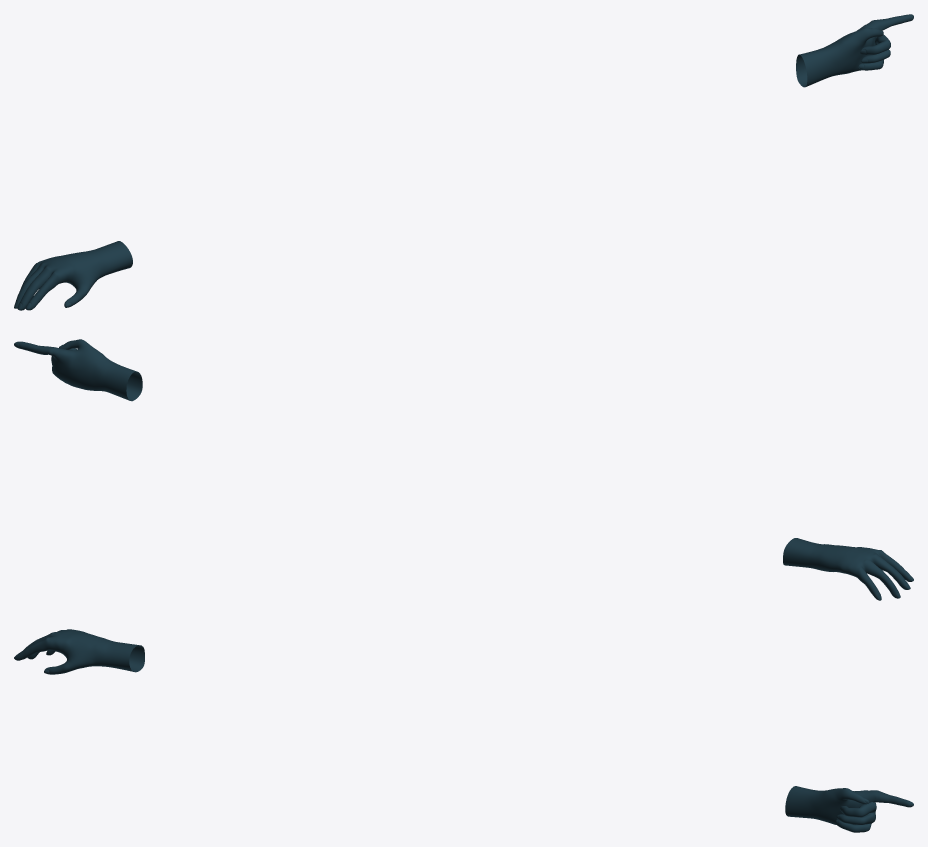
Rendered from hands.obj.
3 renders of one model, top to bottom at view 1: azimuth 30°, elevation 25°; view 2: azimuth 150°, elevation 25°; view 3: azimuth 330°, elevation 25°, orthographic. The views are drawn at different scales.
Visible parts, largest first — view 1: hand_bake; view 2: hand_bake; view 3: hand_bake.
Part boxes in pixels (box(x1,y1,x2,y2)): hand_bake: box(14, 14, 913, 310); hand_bake: box(14, 339, 913, 600); hand_bake: box(14, 629, 913, 832).
Size of the model in its own units: 1.76 by 0.1239 by 0.1224.
